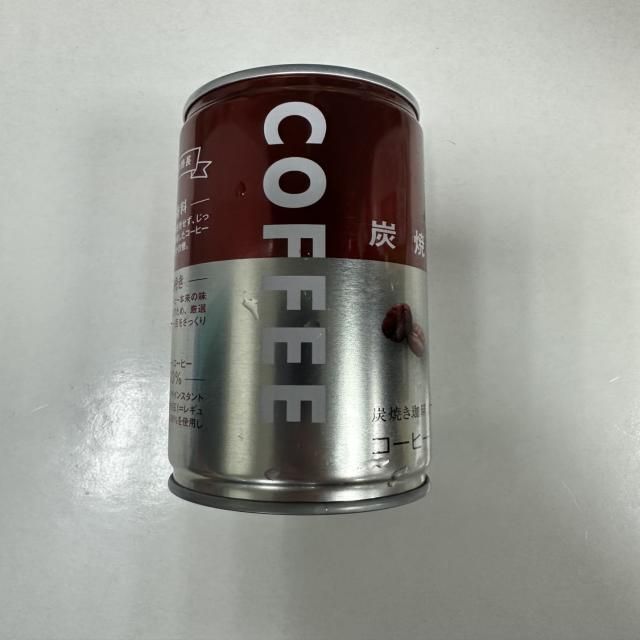Can: (175, 63, 428, 512)
